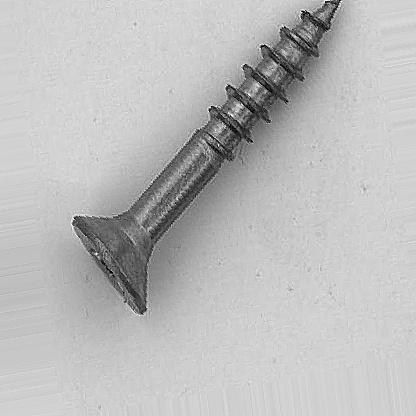metal: (70, 0, 343, 315)
